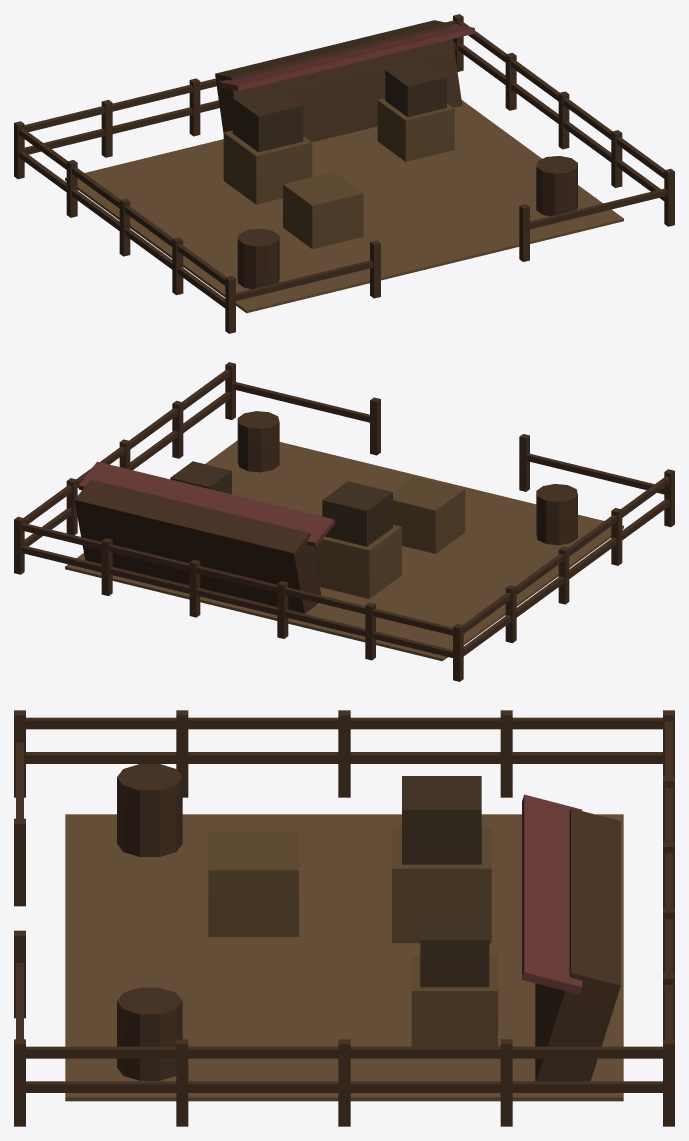
Rendered from yard_store.glb.
3 renders of one model, top to bottom at view 1: azimuth 30°, elevation 25°; view 2: azimuth 150°, elevation 25°; view 3: azimuth 270°, elevation 25°, orthographic. The views are drawn at different scales.
Parts seen in each view (by area): view 1: prop; view 2: prop; view 3: prop.
Boxes of the visible parts, x1,y1,x2,y2 form: prop: [14, 14, 674, 333]; prop: [14, 362, 674, 681]; prop: [14, 710, 674, 1126].
Size of the model in its own units: 9.14 by 1.75 by 7.64.
